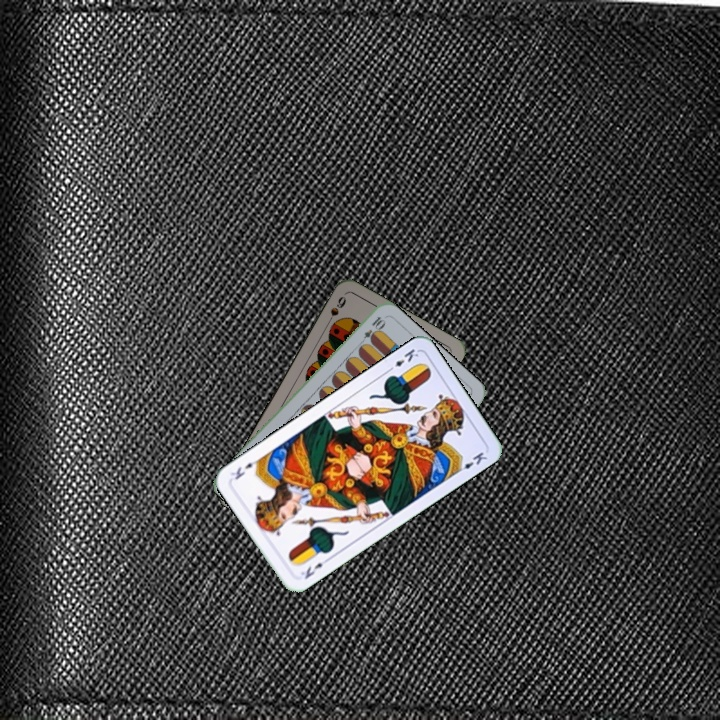E10: (355, 312, 387, 348)
EK: (383, 344, 421, 375), (297, 554, 332, 582)
S9: (322, 292, 349, 329)
